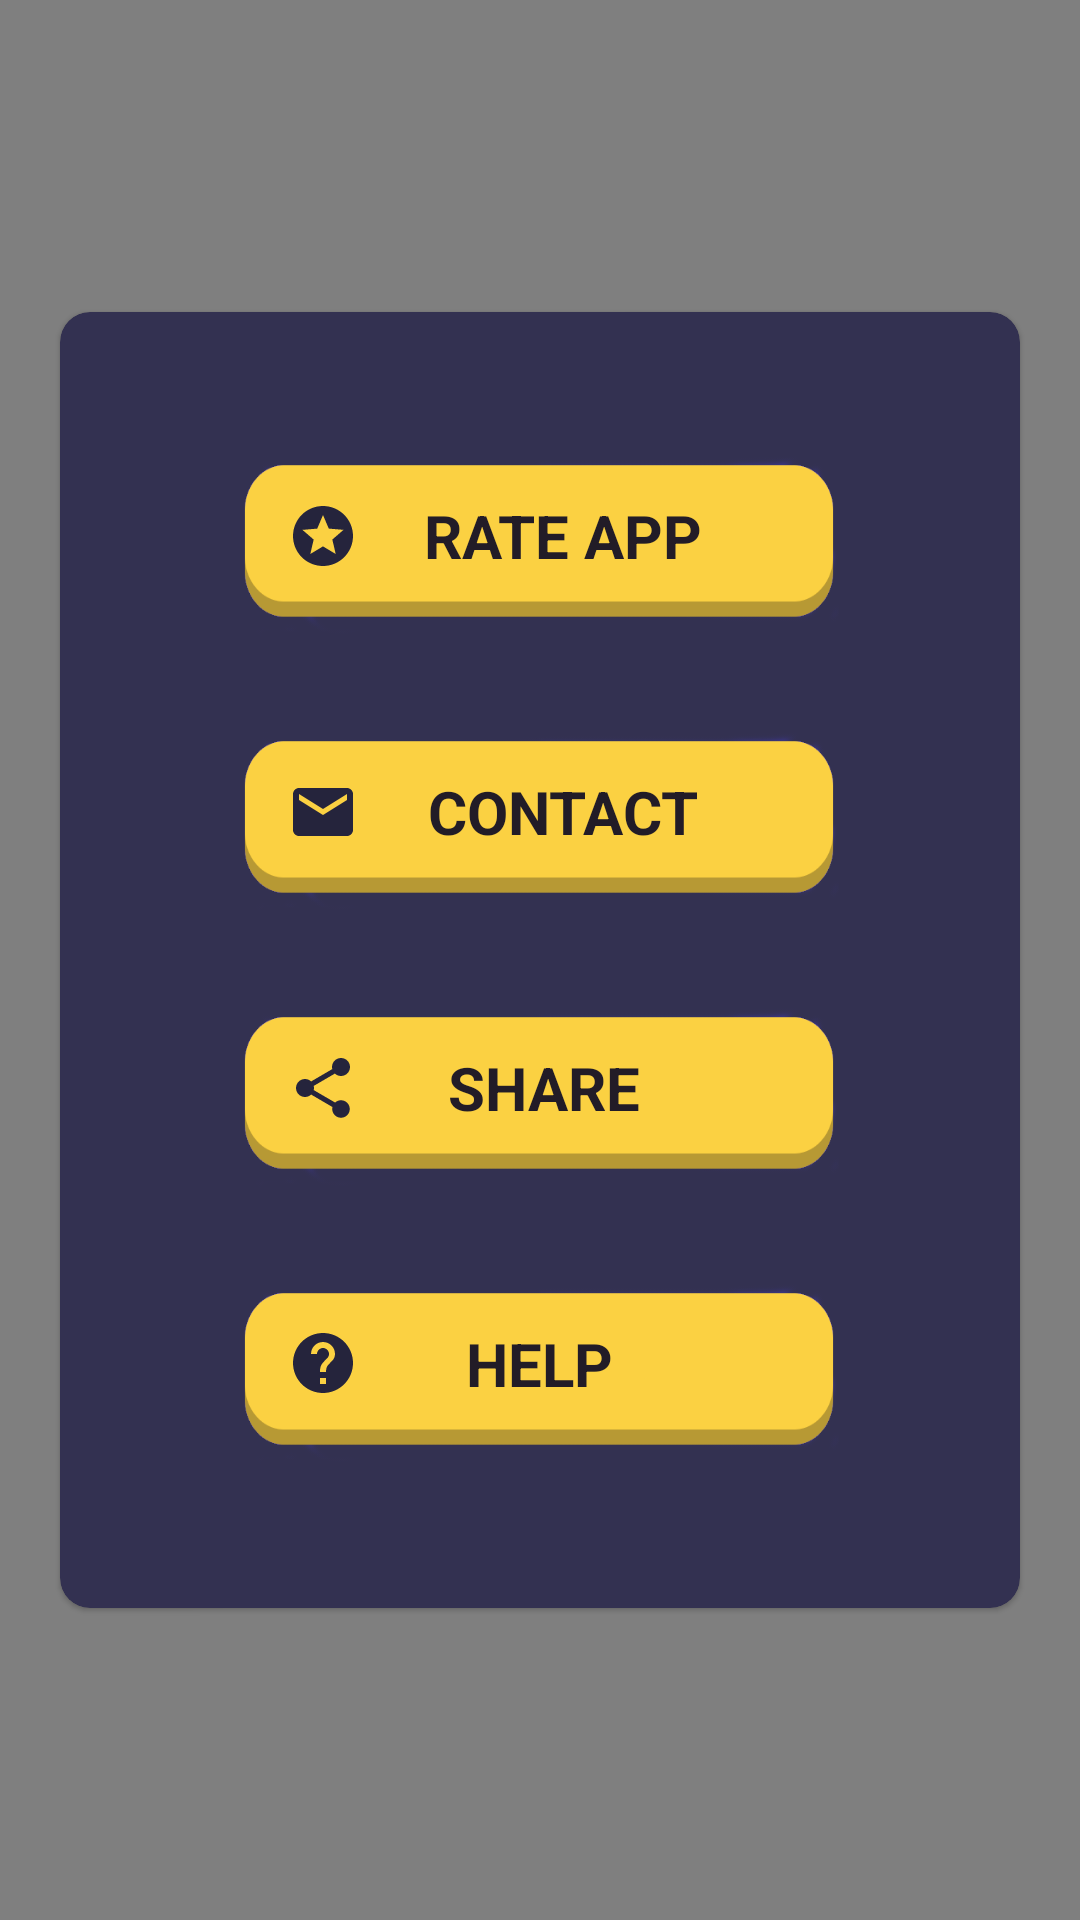

Screen size 1080*1920. Icon name, then its center in pixels as (x,y):
email: (323,812)
star: (323,536)
